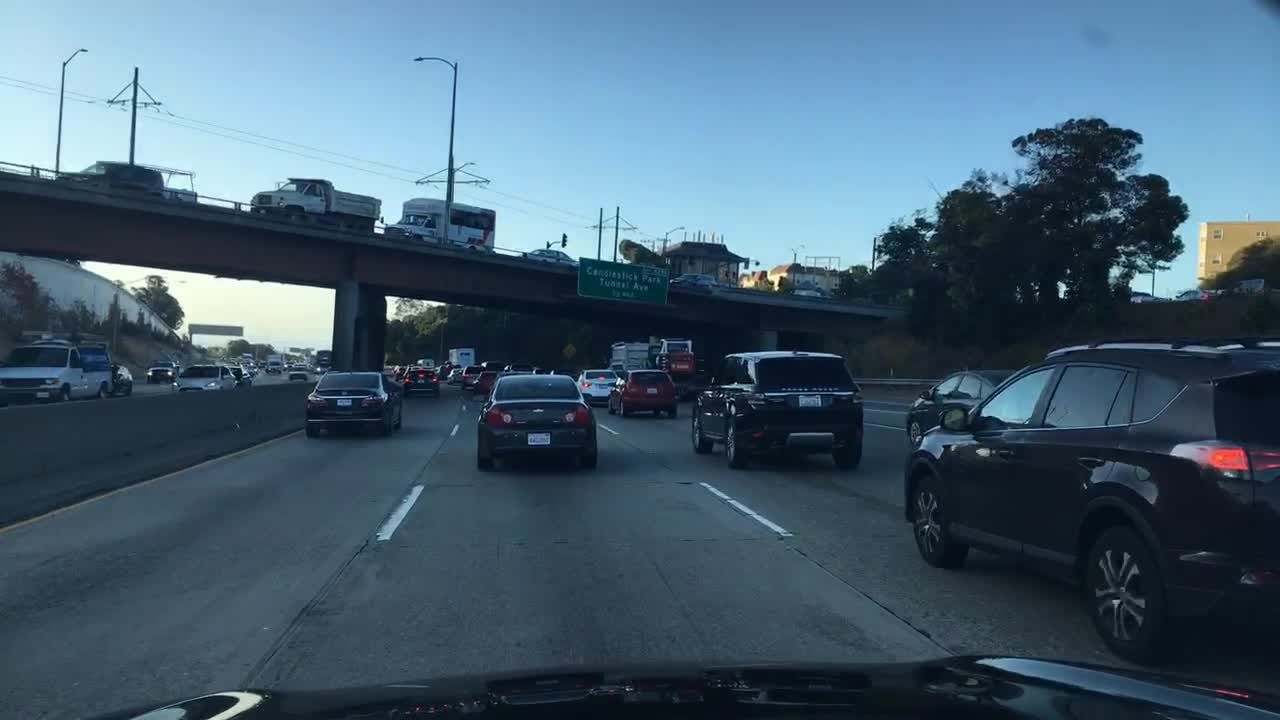car: (902, 335, 1280, 666), (692, 350, 865, 468), (475, 373, 601, 473), (907, 372, 1026, 455), (0, 335, 119, 401), (305, 369, 403, 442), (60, 160, 169, 201), (607, 365, 682, 421), (173, 362, 239, 395), (578, 364, 624, 402), (401, 365, 441, 398), (524, 246, 573, 267), (675, 270, 718, 290), (143, 359, 177, 381), (475, 369, 500, 395), (110, 365, 134, 392), (225, 365, 251, 385), (457, 367, 481, 387), (541, 365, 579, 376), (501, 361, 524, 376), (791, 286, 821, 296), (524, 367, 549, 378), (484, 361, 503, 375), (288, 372, 308, 384), (291, 359, 308, 372), (435, 365, 450, 378), (449, 365, 461, 381), (242, 364, 259, 375), (391, 365, 404, 378)
traffic sign: (581, 258, 669, 307), (561, 342, 578, 359)
truck: (248, 175, 383, 235), (386, 197, 500, 263), (610, 341, 696, 375), (447, 346, 477, 369), (263, 353, 285, 375)
